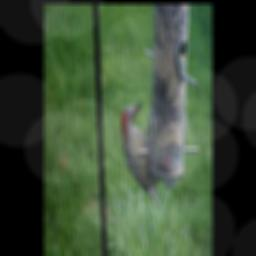Woodpecker: (122, 101, 160, 207)
